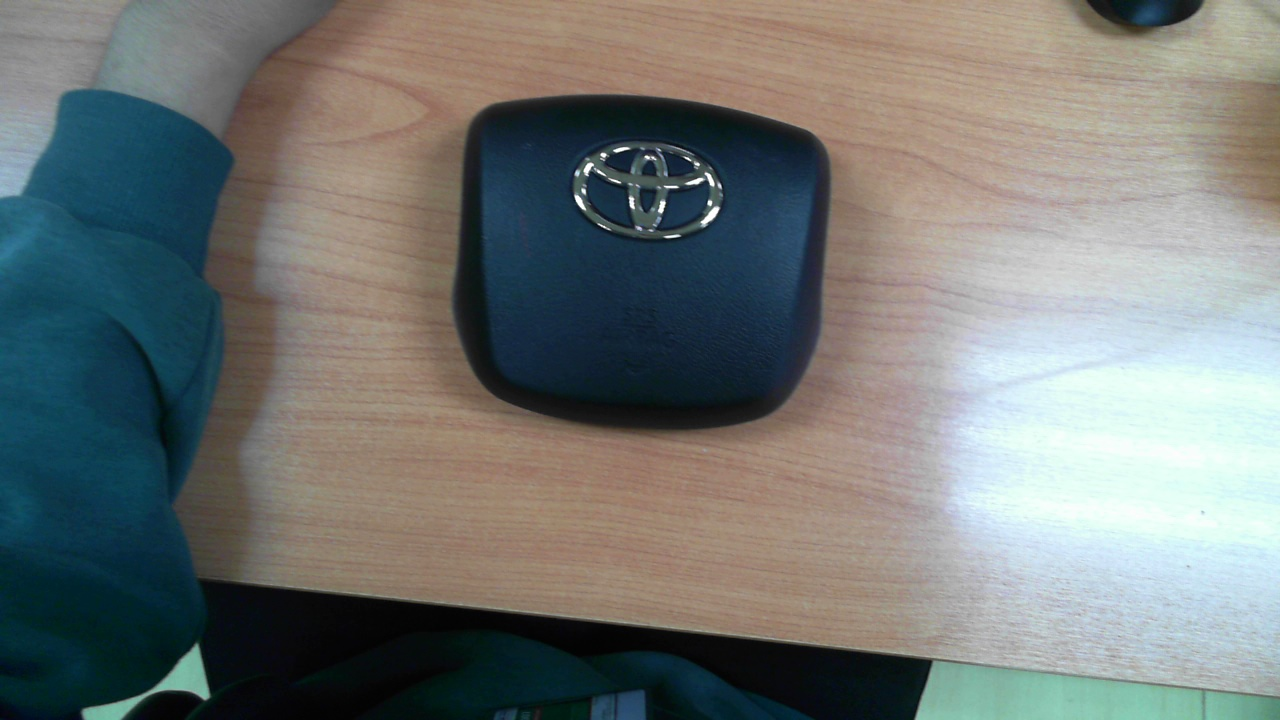Airbag: (453, 95, 832, 432)
Toyota: (573, 143, 724, 239)
